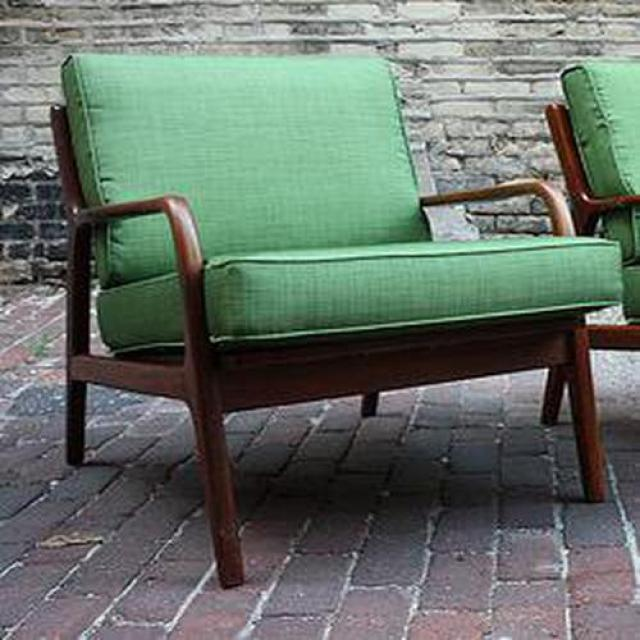chair: (50, 54, 625, 591)
